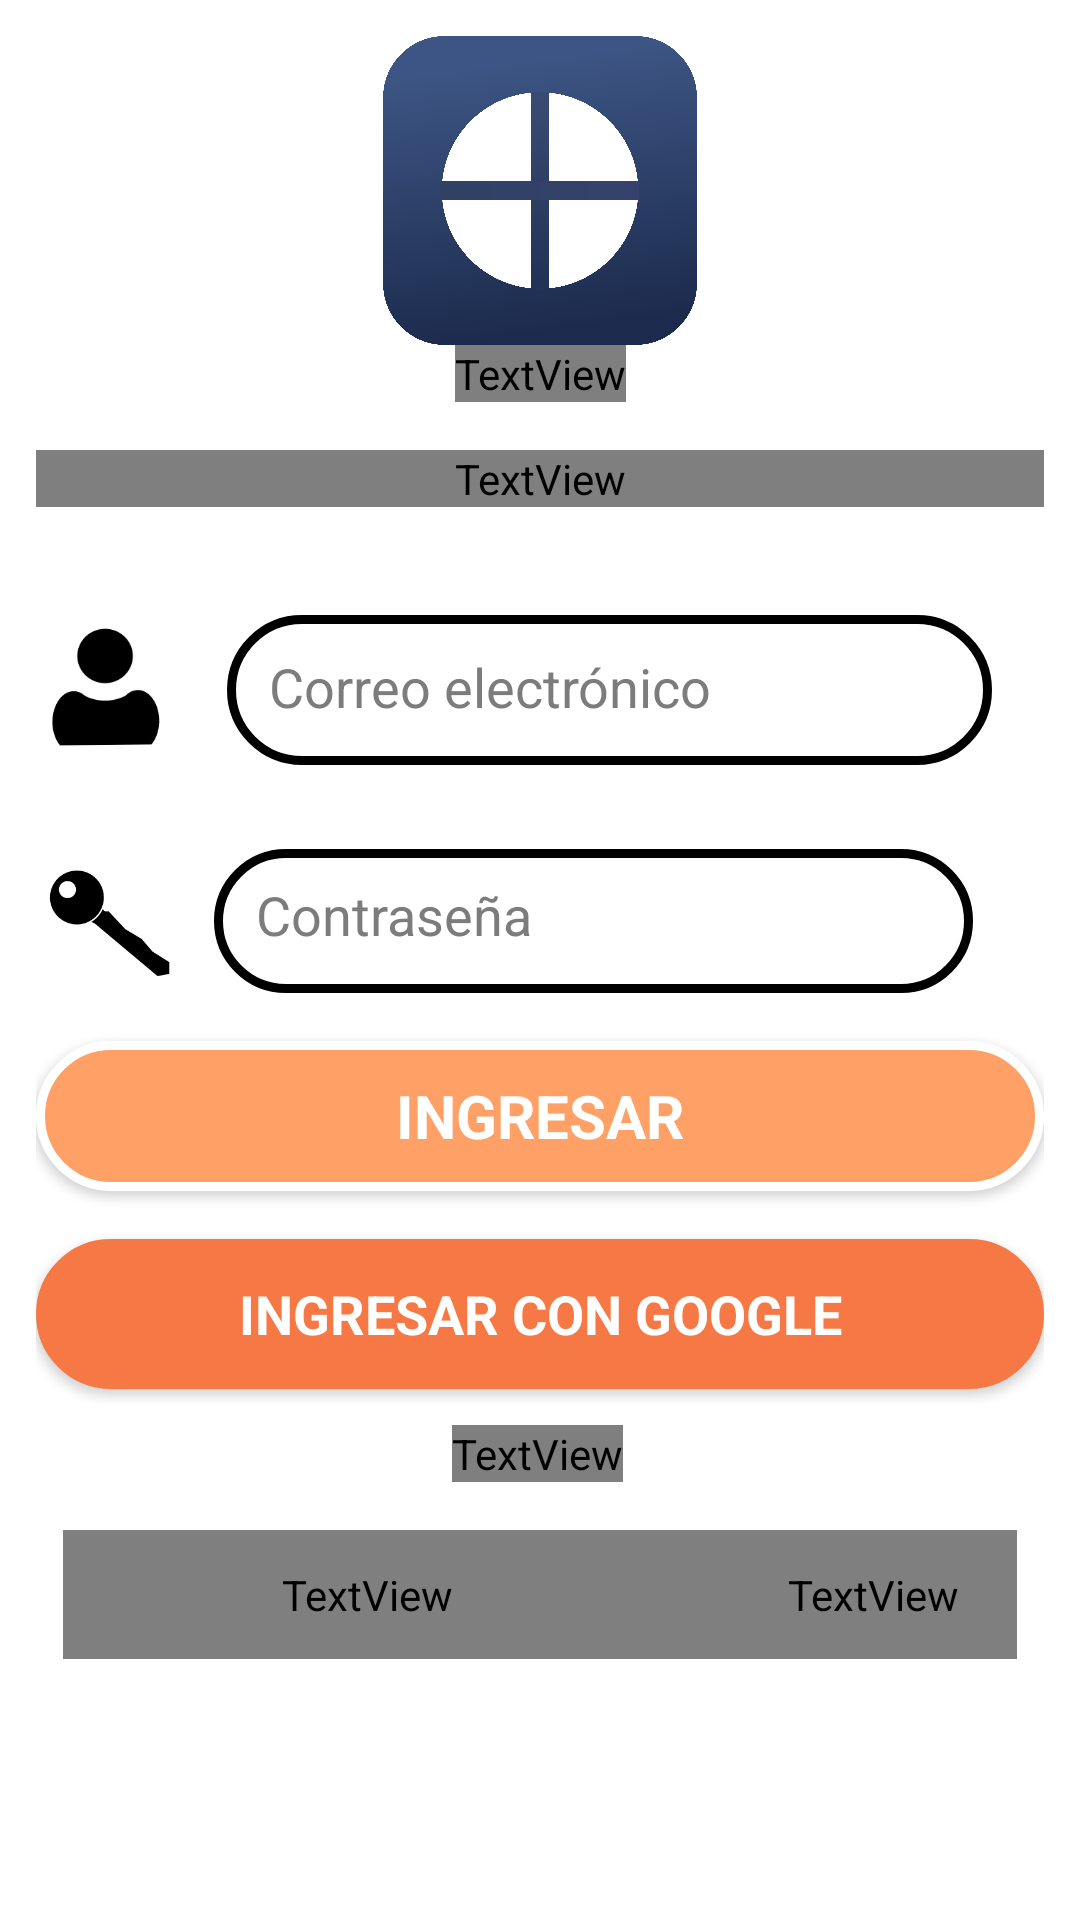

Where icons sit on this 1080 x 1920 app screen, as bbox=(x1, y1, x2, y2):
key: bbox=(50, 870, 170, 976)
profile: bbox=(52, 628, 160, 746)
